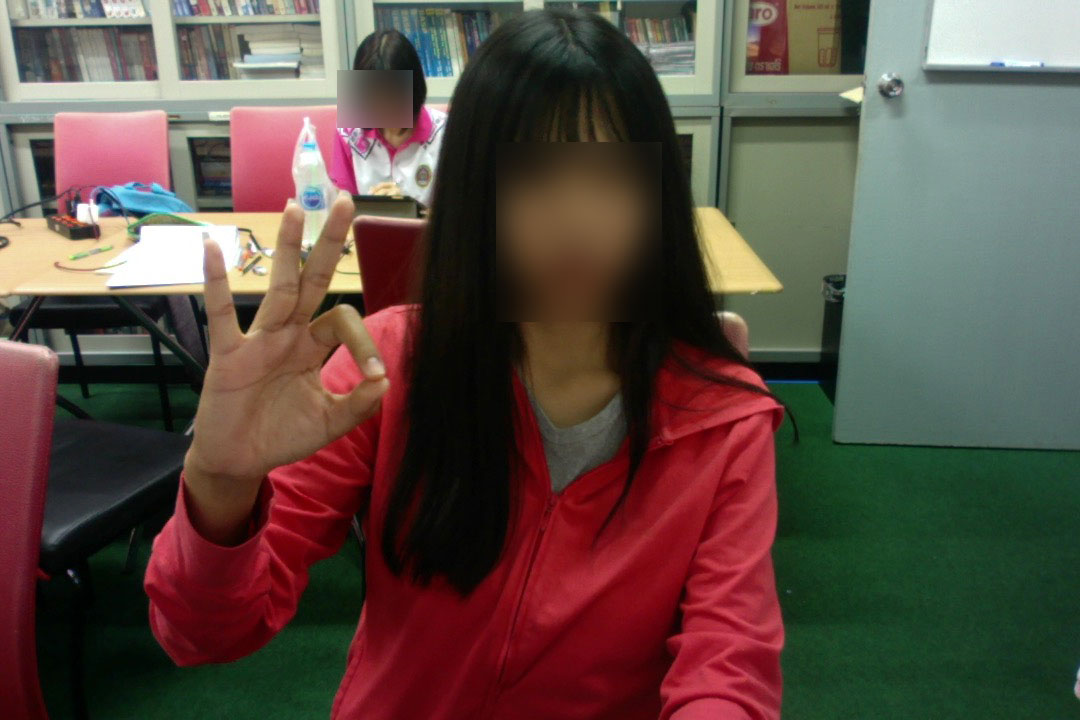for: (173, 183, 395, 478)
